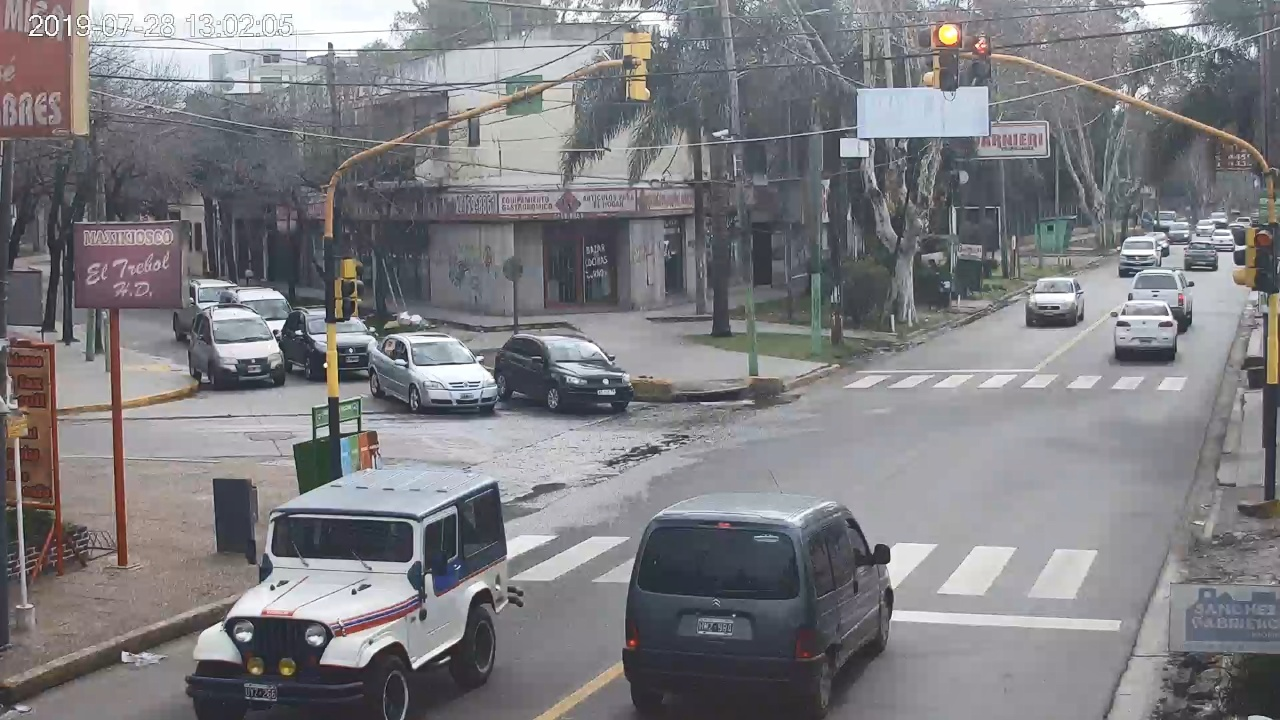car: (622, 491, 894, 714), (1111, 300, 1178, 360)
front car: (187, 469, 524, 720), (495, 333, 634, 411)
traffic light: (938, 21, 958, 90), (1255, 229, 1272, 291)
